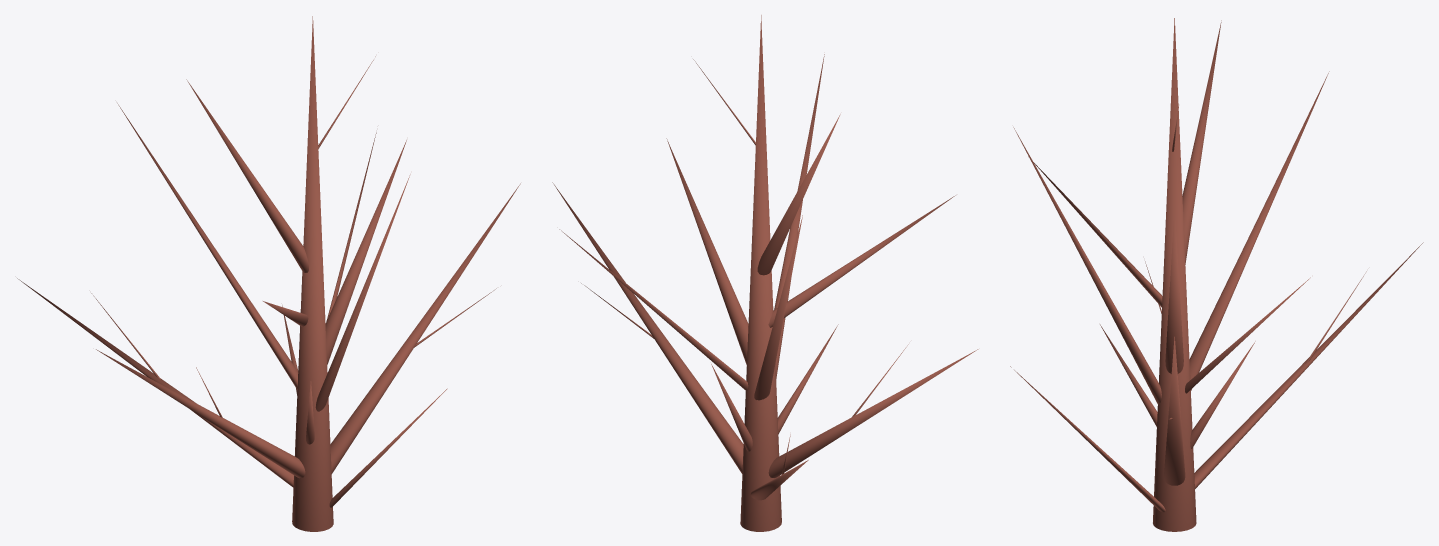
The model's file is Spiked Red Coral.fbx.
3 views of the same model, side by side, from view 1: azimuth 30°, elevation 25°; view 2: azimuth 150°, elevation 25°; view 3: azimuth 270°, elevation 25° (orthographic).
Visible parts, largest first — view 1: pCone1, pCone6, pCone10, pCone2, pCone7, pCone3, pCone11, pCone8, pCone12; view 2: pCone1, pCone6, pCone10, pCone2, pCone7, pCone3, pCone9, pCone8, pCone16, pCone4, pCone5, pCone11; view 3: pCone1, pCone7, pCone11, pCone8, pCone3, pCone6, pCone2, pCone9, pCone12, pCone16, pCone5, pCone4.
Boxes of the visible parts, bbox=[...] form: pCone1: bbox=[292, 16, 333, 531]; pCone6: bbox=[330, 183, 520, 473]; pCone10: bbox=[96, 349, 305, 478]; pCone2: bbox=[325, 140, 406, 364]; pCone7: bbox=[117, 103, 298, 389]; pCone3: bbox=[186, 79, 308, 272]; pCone11: bbox=[17, 278, 293, 487]; pCone8: bbox=[315, 174, 410, 411]; pCone12: bbox=[329, 388, 447, 507]; pCone1: bbox=[740, 15, 781, 531]; pCone6: bbox=[552, 182, 743, 473]; pCone10: bbox=[768, 349, 978, 477]; pCone2: bbox=[666, 138, 748, 365]; pCone7: bbox=[754, 215, 802, 400]; pCone3: bbox=[757, 114, 840, 275]; pCone9: bbox=[768, 195, 955, 327]; pCone8: bbox=[774, 54, 824, 379]; pCone16: bbox=[559, 229, 748, 391]; pCone4: bbox=[777, 324, 838, 434]; pCone5: bbox=[711, 364, 752, 451]; pCone11: bbox=[750, 460, 808, 500]; pCone1: bbox=[1153, 18, 1196, 531]; pCone7: bbox=[1189, 71, 1329, 390]; pCone11: bbox=[1194, 242, 1423, 488]; pCone8: bbox=[1013, 127, 1161, 404]; pCone3: bbox=[1182, 20, 1221, 264]; pCone6: bbox=[1164, 336, 1185, 485]; pCone2: bbox=[1165, 209, 1183, 373]; pCone9: bbox=[1028, 156, 1162, 307]; pCone12: bbox=[1010, 366, 1165, 512]; pCone16: bbox=[1185, 277, 1310, 393]; pCone5: bbox=[1190, 341, 1255, 448]; pCone4: bbox=[1100, 324, 1157, 426].
Size of the model in its own units: 8.82 by 10 by 7.4.
